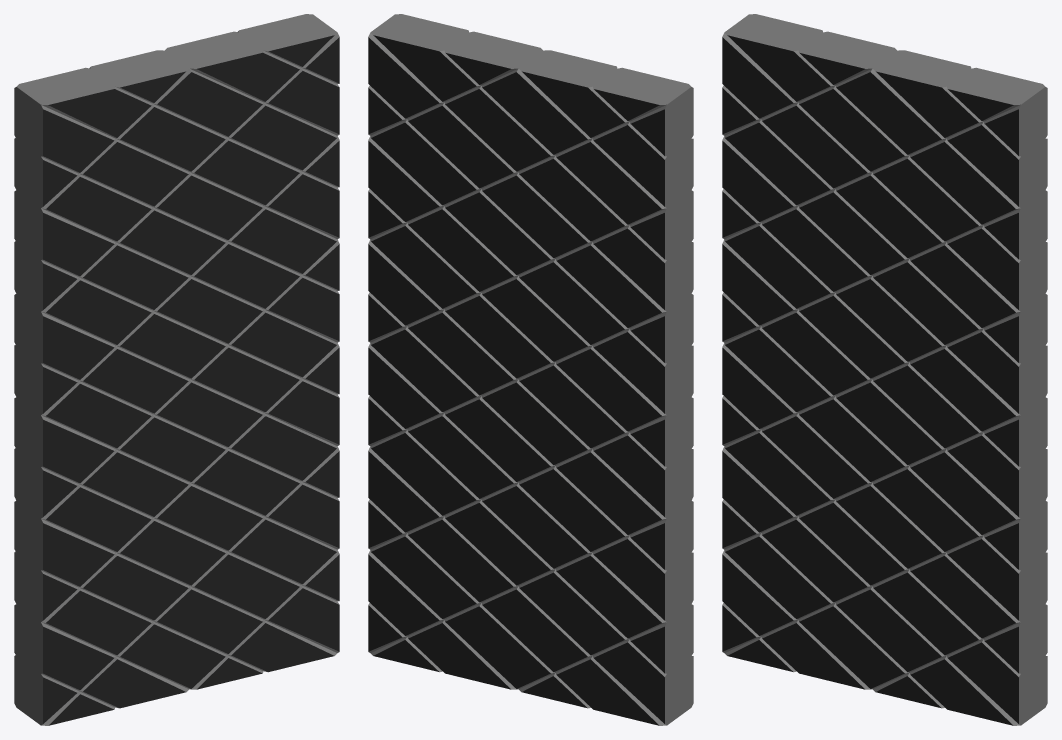
Rendered from DiagonalTileWall.glb.
3 renders of one model, left to right at view 1: azimuth 30°, elevation 25°; view 2: azimuth 150°, elevation 25°; view 3: azimuth 330°, elevation 25°, orthographic.
Parts seen in each view (by area): view 1: wall_diagonalTile; view 2: wall_diagonalTile; view 3: wall_diagonalTile.
Part boxes in pixels (x1,y1,x2,y2): wall_diagonalTile: (14, 14, 339, 725); wall_diagonalTile: (368, 14, 693, 725); wall_diagonalTile: (722, 14, 1047, 725).
Size of what is drawn, in the model's own units: 2 by 4 by 0.3377.
Materials: 1 (1 with a texture image).
